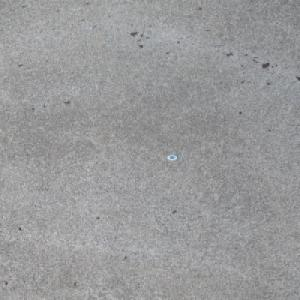Washer: (166, 153, 178, 160)
